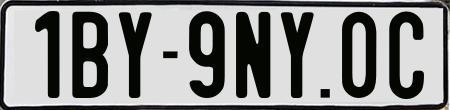0: (339, 10, 375, 100)
1: (33, 11, 59, 100)
9: (186, 9, 224, 96)
B: (69, 11, 105, 97)
C: (386, 9, 422, 97)
N: (233, 10, 273, 102)
Y: (118, 12, 156, 101), (279, 9, 317, 98)
